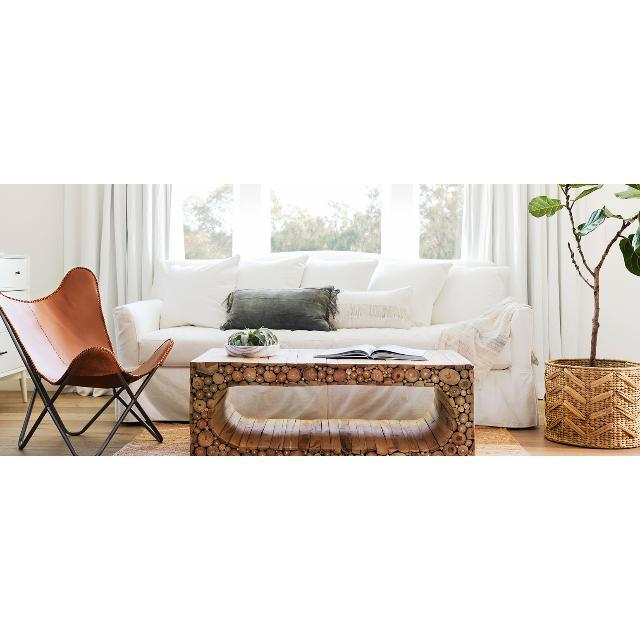chair: (0, 266, 172, 455)
couch: (113, 258, 536, 426)
pillow: (219, 287, 336, 329), (334, 286, 416, 330)
plant: (528, 184, 640, 364)
table: (190, 349, 473, 455)
